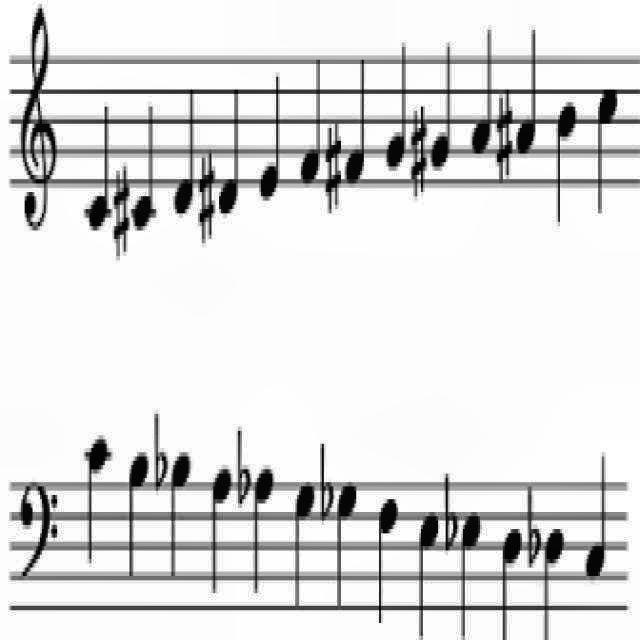Bass-clef: (16, 472, 59, 584)
Bemol: (232, 422, 252, 510), (316, 436, 336, 524), (151, 404, 169, 490), (441, 472, 459, 552), (526, 483, 542, 567)
Diez: (322, 113, 346, 219), (409, 101, 431, 203), (196, 139, 216, 251), (110, 157, 130, 267), (494, 80, 514, 188)
Quarter-note: (594, 80, 622, 220), (332, 475, 360, 611), (170, 85, 198, 218), (258, 66, 286, 198), (384, 45, 412, 175), (132, 99, 158, 238), (293, 473, 319, 612), (344, 51, 370, 189), (123, 443, 149, 581), (582, 450, 608, 588), (468, 26, 496, 154), (554, 95, 580, 229), (514, 19, 538, 162), (429, 46, 455, 174), (300, 54, 324, 188), (86, 436, 110, 570), (218, 84, 242, 216), (251, 464, 275, 596), (416, 506, 440, 638), (88, 101, 112, 232), (376, 494, 399, 628), (208, 467, 232, 593), (169, 448, 191, 584), (540, 520, 564, 640), (459, 509, 481, 639), (500, 524, 524, 640)
Treble-clef: (16, 3, 59, 237)
